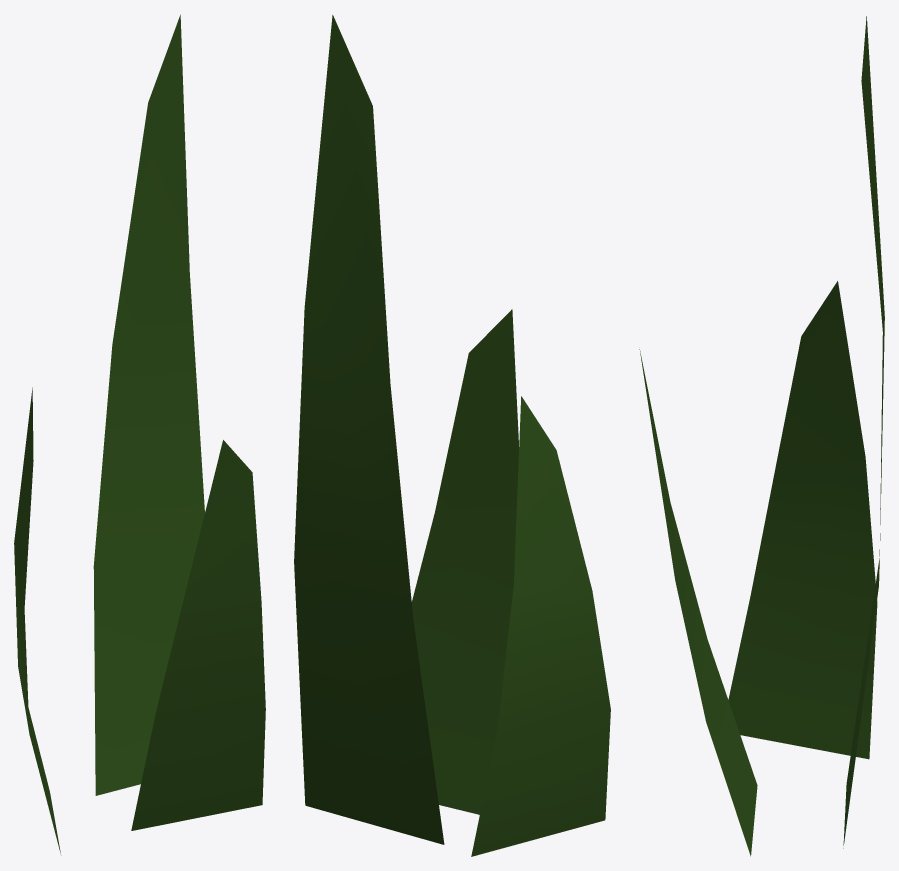
Rendered from cesped5.glb.
The picture shows the model from 3 angles, left to right: view 1: azimuth 30°, elevation 25°; view 2: azimuth 150°, elevation 25°; view 3: azimuth 270°, elevation 25°; orthographic projection. The views are drawn at different scales.
Parts seen in each view (by area): view 1: cesped 5; view 2: cesped 5; view 3: cesped 5.
Part boxes in pixels (<box>): cesped 5: <box>14,14,265,855</box>; cesped 5: <box>294,15,610,856</box>; cesped 5: <box>639,16,884,856</box>.
Bounding box in the file's own units: 0.2055 × 0.6208 × 0.1671.
